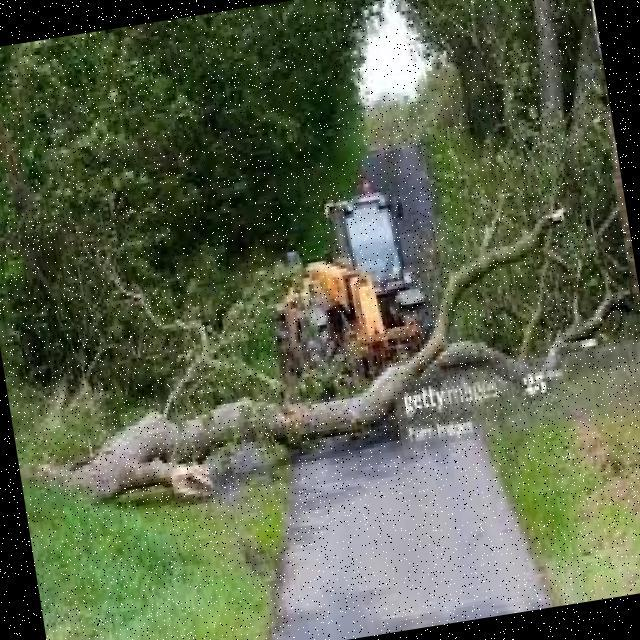fallen_object: (5, 185, 640, 531)
